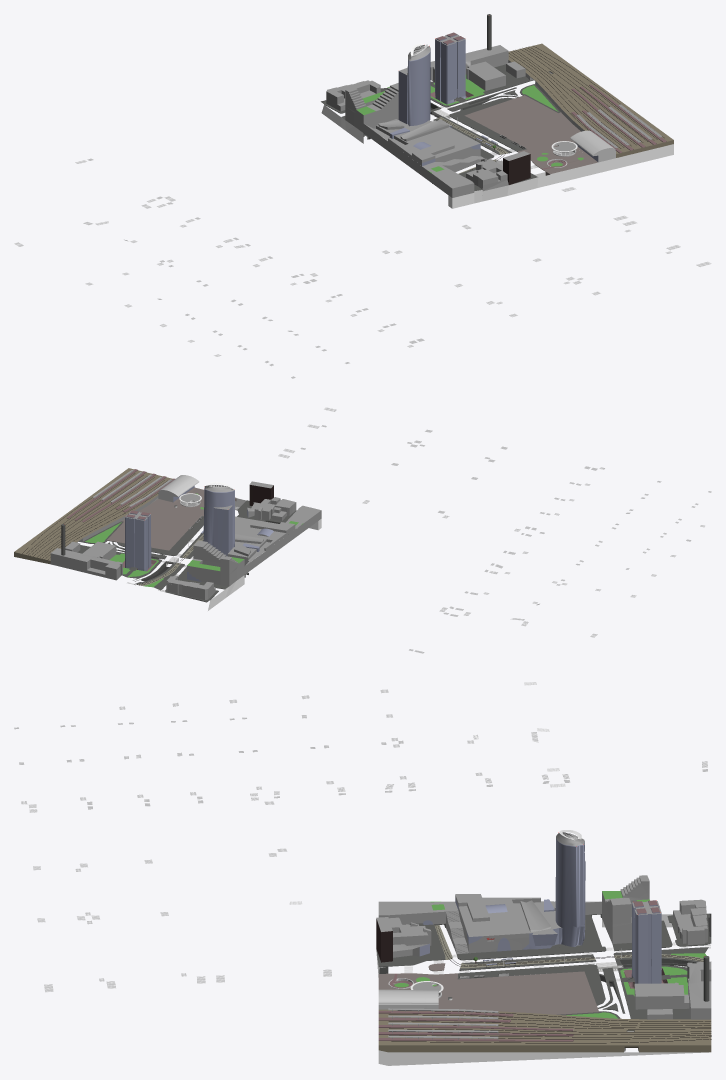
Rendered from place_de_milan.glb.
The picture shows the model from 3 angles, top to bottom: view 1: azimuth 30°, elevation 25°; view 2: azimuth 150°, elevation 25°; view 3: azimuth 270°, elevation 25°; orthographic projection. The views are drawn at different scales.
Visible parts, largest first — view 1: quartier, polygone_implantation, Cube.005, Hall_Gare; view 2: quartier, polygone_implantation, Cube.005, Hall_Gare; view 3: quartier, polygone_implantation, Cube.005, Hall_Gare.
Boxes of the visible parts, <box> form: quartier: <box>14,14,711,378</box>; polygone_implantation: <box>464,95,580,148</box>; Cube.005: <box>576,104,662,148</box>; Hall_Gare: <box>575,134,615,162</box>; quartier: <box>14,407,711,653</box>; polygone_implantation: <box>107,499,200,550</box>; Cube.005: <box>93,470,172,507</box>; Hall_Gare: <box>165,475,199,499</box>; quartier: <box>14,682,711,1065</box>; polygone_implantation: <box>438,971,598,1014</box>; Cube.005: <box>388,1008,498,1039</box>; Hall_Gare: <box>378,989,426,1009</box>.
Bounding box in the file's own units: 919 × 142 × 737.
Materials: 25 (3 with a texture image).
